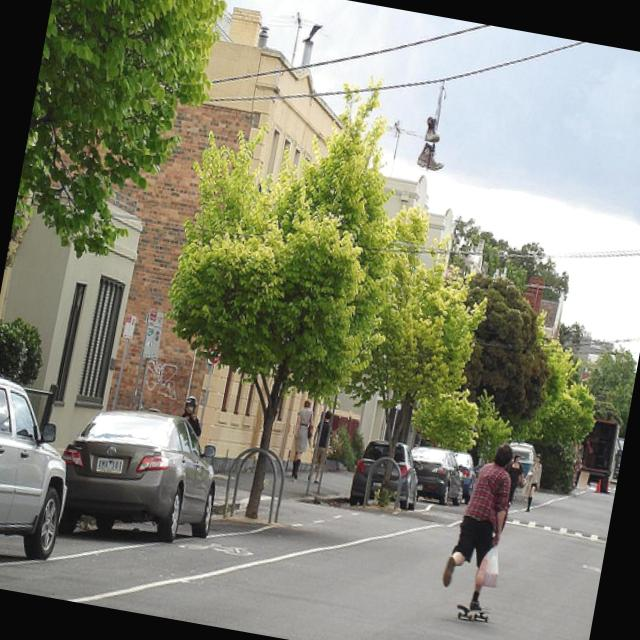Vehicle: (48, 394, 230, 564), (0, 369, 85, 571), (348, 436, 431, 517), (404, 443, 472, 508), (572, 416, 620, 496), (442, 450, 480, 506), (507, 440, 537, 463)
